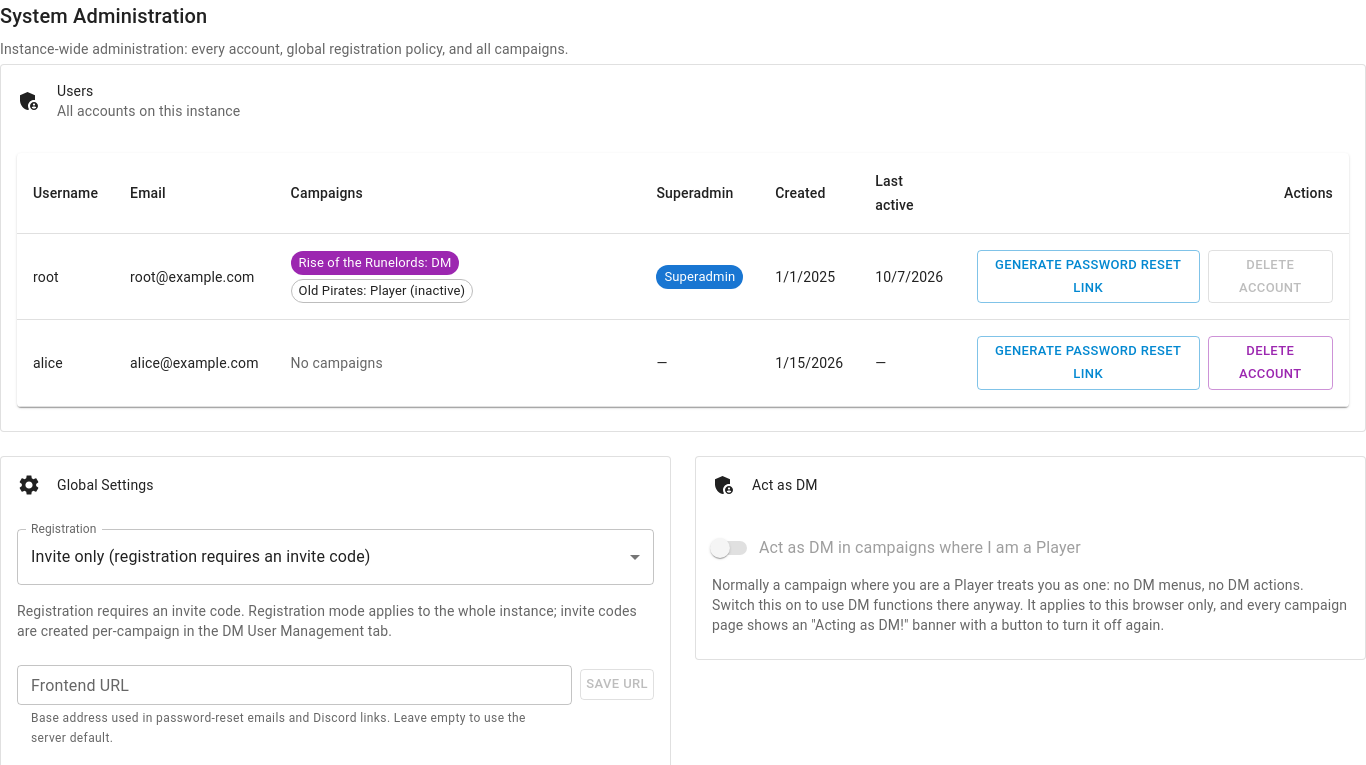
it: SystemAdmin › Users section › surfaces the backend error in the delete dialog
The width and height of the screenshot is (1366, 765).
Expected: the text "alice" is shown, [17,320,114,406]
Click the button "Delete account" in the row of "alice@example.com" at [1270, 363], box [1208,336,1333,390]
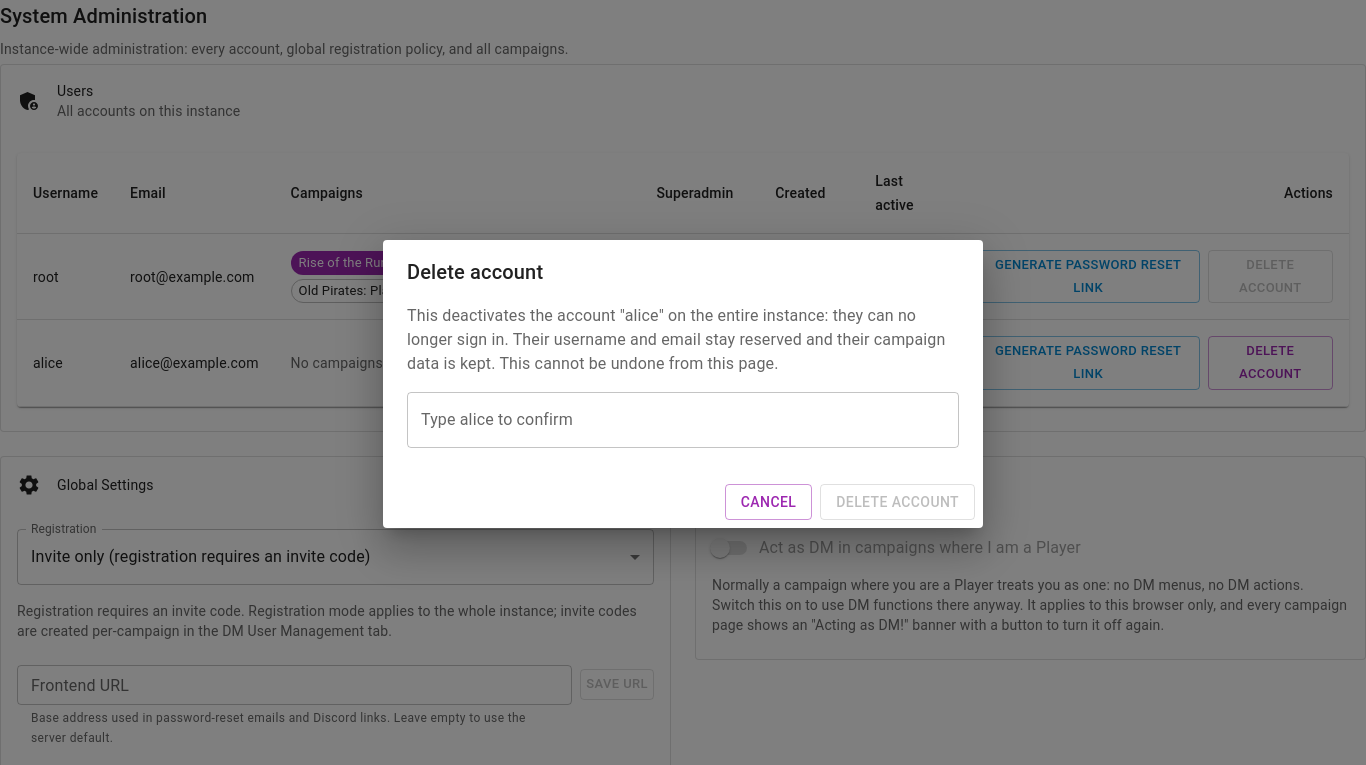
Type "alice" into the field labelled "Type alice to confirm" at [683, 420], box [407,392,959,448]
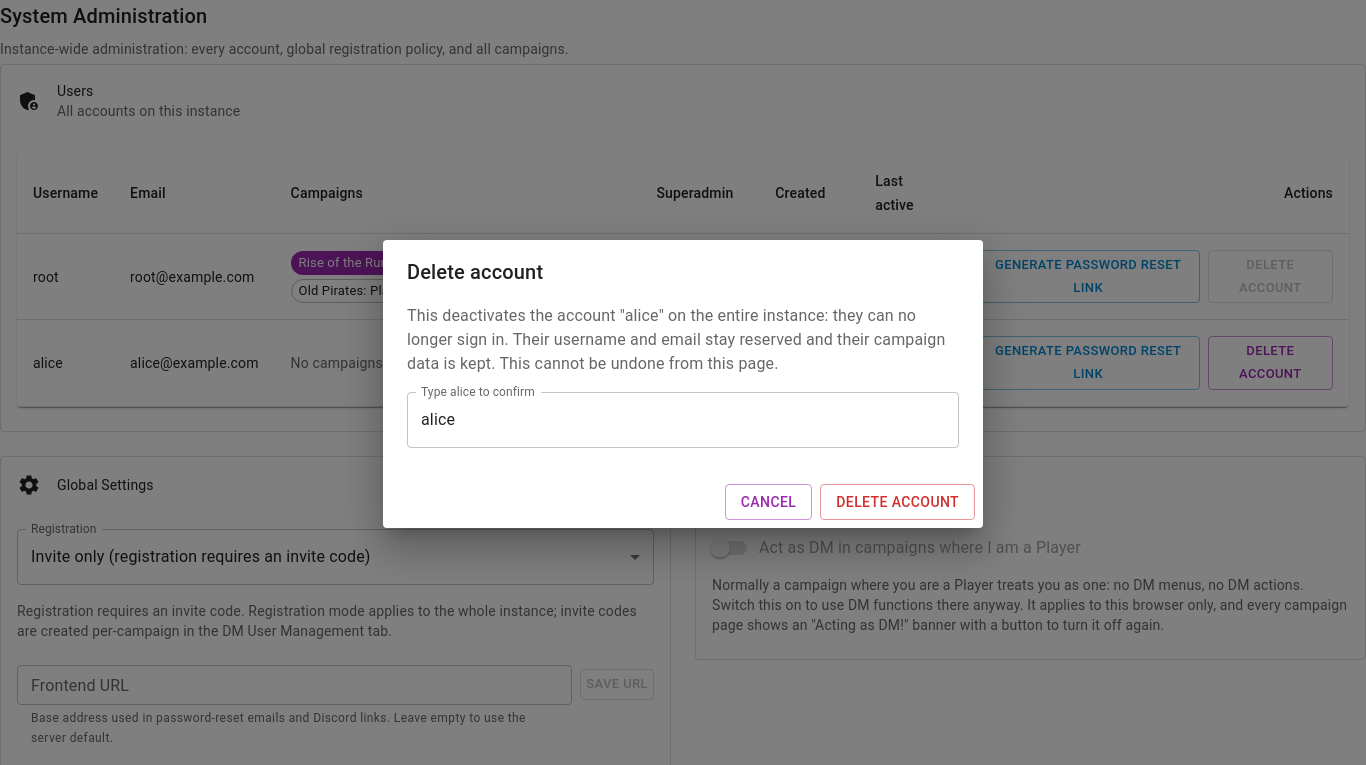
Click the button "Delete account" at [898, 502], box [820,484,975,520]
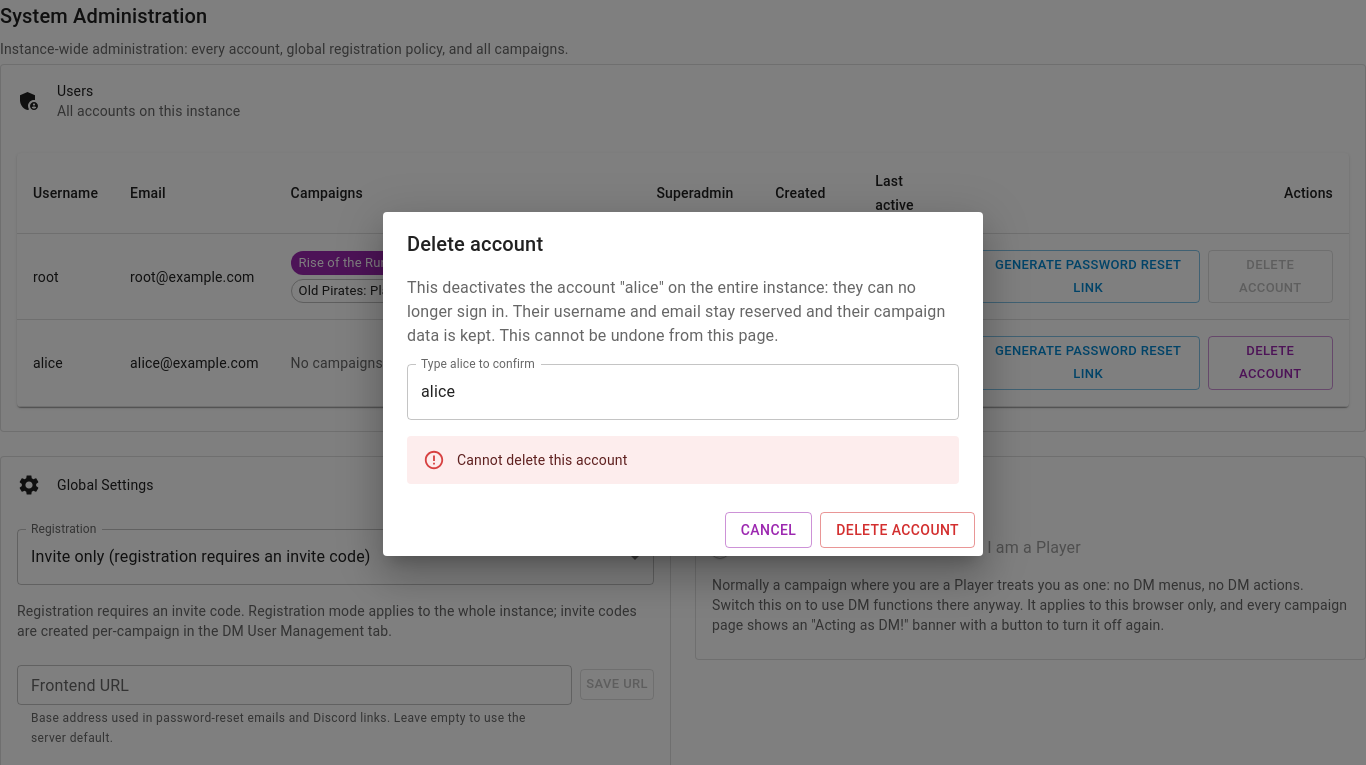
Expected: the text "alice" is shown, [17,320,114,406]
Now the text "Cannot delete this account" is shown, box [457,452,627,468]
